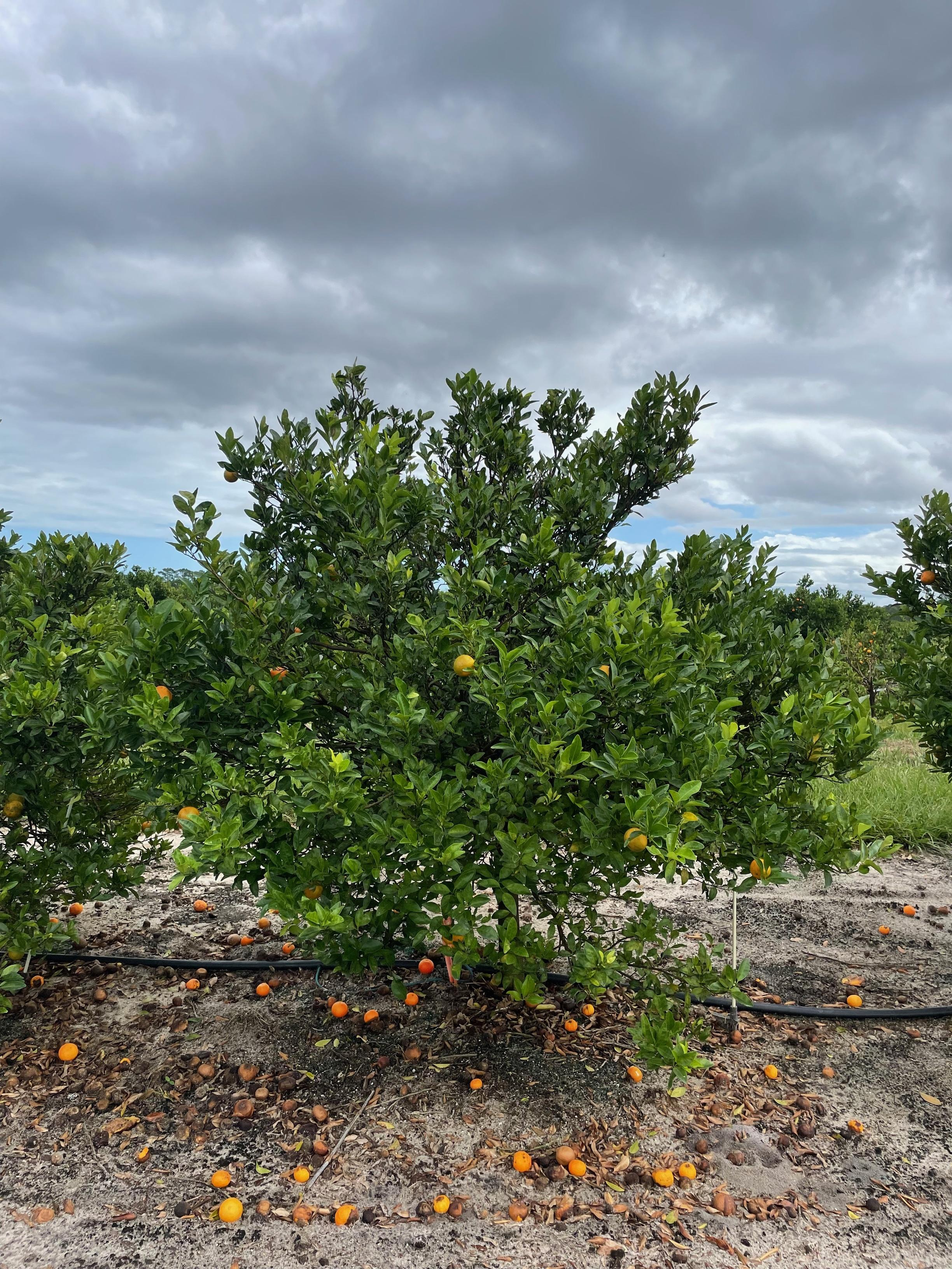fruit_on_ground: (620, 825, 651, 854), (746, 855, 775, 883), (450, 652, 479, 679), (175, 804, 203, 829), (440, 924, 467, 947), (319, 561, 343, 584), (152, 682, 175, 706), (593, 661, 618, 683), (266, 663, 291, 684), (301, 879, 325, 900), (2, 798, 24, 820), (917, 568, 939, 588), (523, 991, 543, 1010), (5, 944, 26, 962), (221, 466, 242, 484), (140, 819, 157, 837), (12, 826, 30, 843)
fruit_on_tree: (218, 1195, 243, 1223), (333, 1203, 359, 1226), (713, 1191, 737, 1215), (511, 1149, 534, 1173), (57, 1040, 80, 1063), (291, 1203, 313, 1225), (509, 1199, 530, 1222), (651, 1166, 674, 1187), (554, 1144, 577, 1165), (233, 1097, 255, 1118), (210, 1168, 232, 1189), (237, 1061, 259, 1081), (625, 1064, 645, 1084), (432, 1193, 452, 1213), (292, 1164, 311, 1185), (545, 1164, 568, 1181), (402, 1044, 422, 1063), (416, 956, 436, 975), (568, 1156, 587, 1176), (255, 1197, 273, 1217), (330, 999, 350, 1017), (726, 1026, 744, 1045), (678, 1160, 697, 1178), (844, 972, 865, 988), (579, 1001, 597, 1019), (312, 1138, 331, 1155), (401, 990, 420, 1007), (197, 1061, 216, 1078), (311, 1103, 330, 1120), (846, 1117, 866, 1133), (28, 972, 46, 989), (762, 1063, 780, 1080), (693, 1137, 710, 1154), (447, 1201, 464, 1218), (363, 1007, 381, 1023), (844, 993, 863, 1008), (71, 935, 88, 951), (93, 1096, 110, 1112), (135, 1145, 151, 1162), (563, 1016, 579, 1033), (282, 1097, 298, 1113), (254, 1085, 270, 1101), (172, 1016, 189, 1031), (280, 1077, 297, 1092), (280, 940, 296, 955), (376, 1053, 391, 1069), (68, 900, 84, 915), (469, 1075, 484, 1091), (255, 981, 271, 996), (795, 1095, 812, 1109), (187, 1053, 202, 1068), (93, 987, 108, 1002), (192, 897, 208, 911), (376, 982, 391, 996), (256, 915, 271, 929), (324, 994, 338, 1008), (225, 932, 240, 945), (902, 903, 917, 916), (185, 977, 200, 990), (398, 1082, 411, 1096), (47, 914, 61, 927), (268, 976, 282, 989), (239, 933, 253, 946), (171, 994, 184, 1007), (268, 904, 282, 916), (195, 965, 209, 977), (877, 923, 891, 934)
